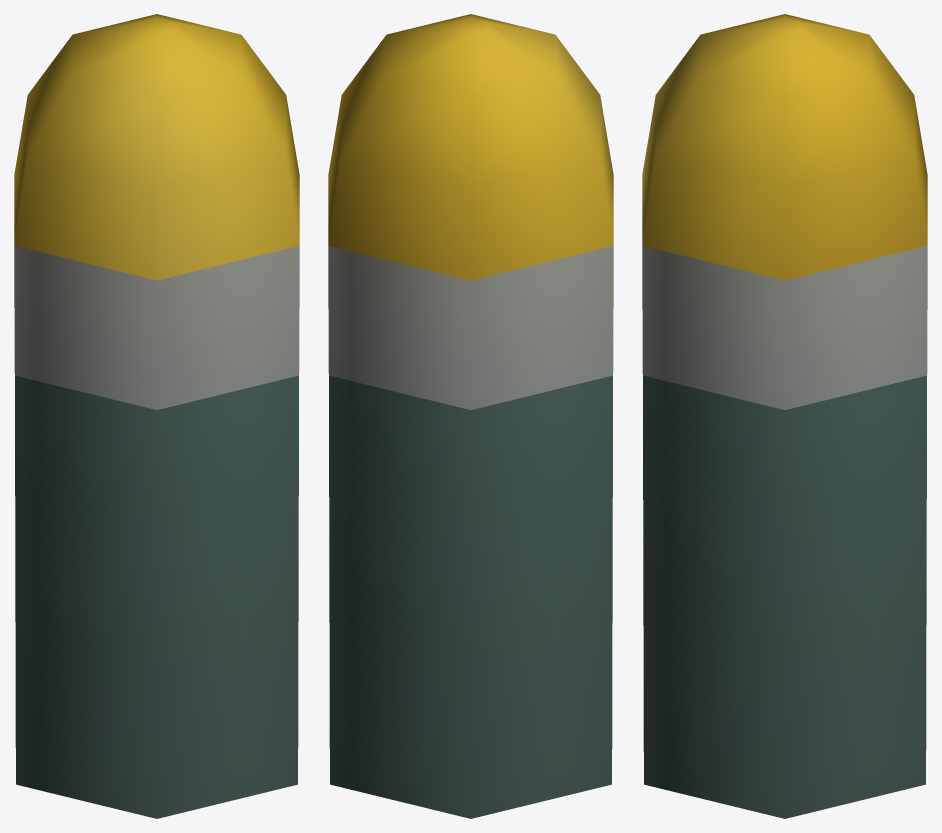
Rendered from GrenadeLauncher_Bullet.fbx.
The picture shows the model from 3 angles, left to right: view 1: azimuth 30°, elevation 25°; view 2: azimuth 150°, elevation 25°; view 3: azimuth 270°, elevation 25°; orthographic projection.
Parts seen in each view (by area): view 1: GrenadeLauncher_Bullet; view 2: GrenadeLauncher_Bullet; view 3: GrenadeLauncher_Bullet.
Boxes of the visible parts, x1,y1,x2,y2 form: GrenadeLauncher_Bullet: [14, 14, 299, 818]; GrenadeLauncher_Bullet: [328, 14, 613, 818]; GrenadeLauncher_Bullet: [642, 14, 927, 818].
Size of the model in its own units: 9.31 by 22.52 by 8.06.
